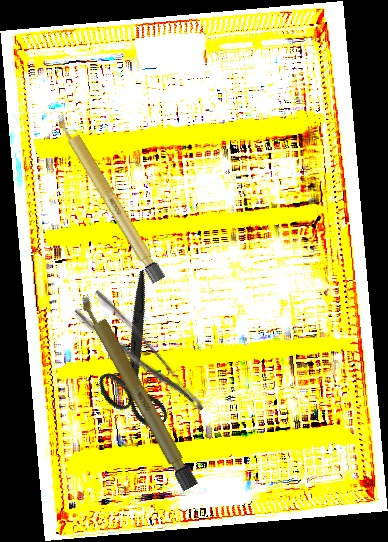Dressing Forceps: (72, 287, 207, 431)
Iris Scissors: (58, 269, 216, 442)
Scalpel Handle: (76, 290, 200, 492), (53, 110, 166, 285)
